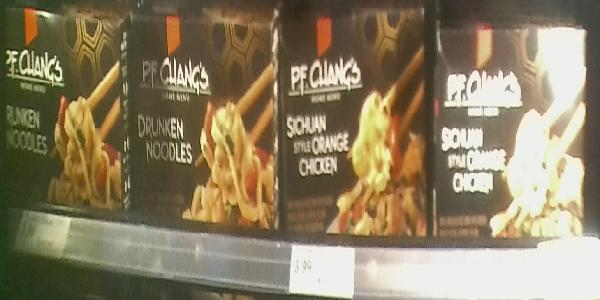pizza1: (286, 1, 433, 242), (434, 24, 588, 240), (131, 13, 281, 233), (1, 4, 131, 216)
